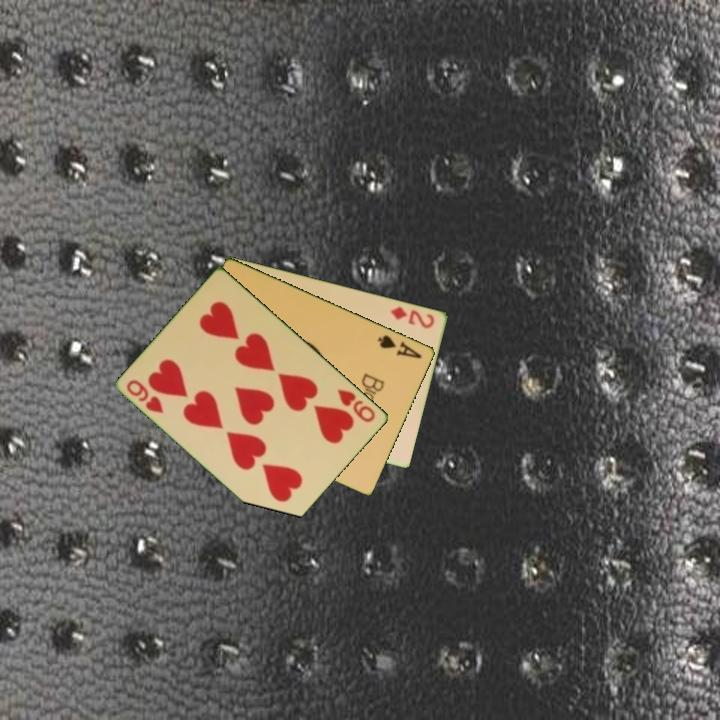2d: (387, 303, 438, 331)
9h: (334, 385, 378, 425), (123, 376, 167, 416)
As: (374, 331, 425, 361)
